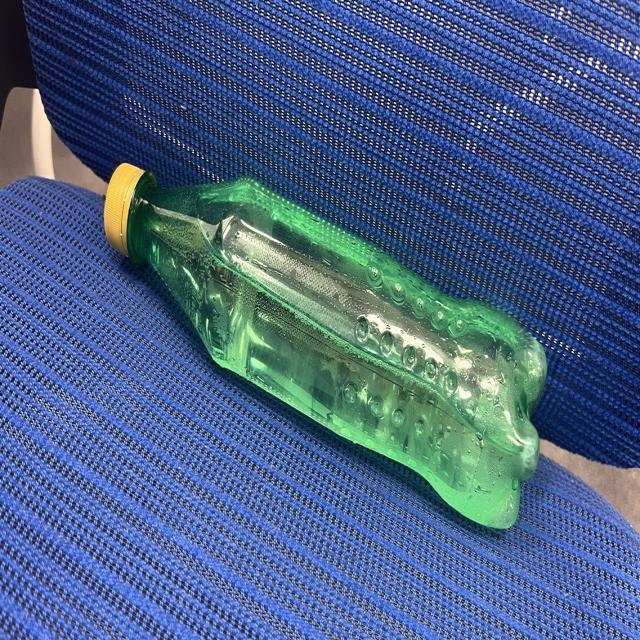high: (104, 164, 545, 528)
